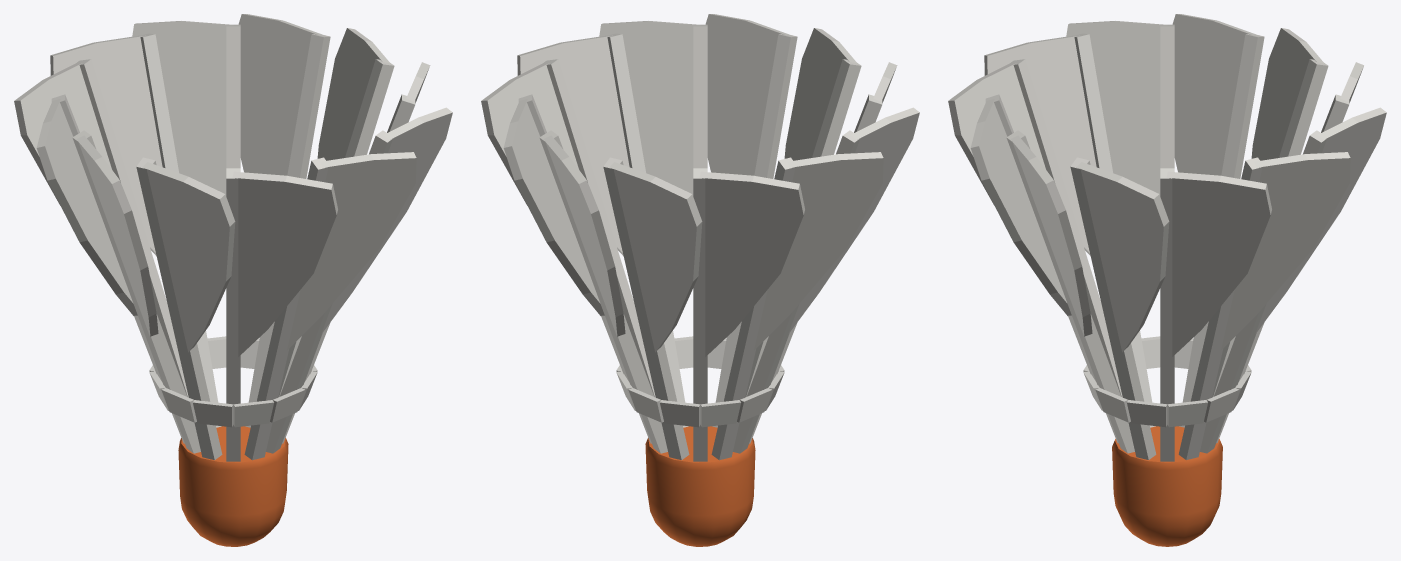
Rendered from kc-shuttlecocks.glb.
The picture shows the model from 3 angles, left to right: view 1: azimuth 30°, elevation 25°; view 2: azimuth 150°, elevation 25°; view 3: azimuth 270°, elevation 25°; orthographic projection.
Visible parts, largest first — view 1: Shuttlecocks; view 2: Shuttlecocks; view 3: Shuttlecocks.
Boxes of the visible parts, <box> form: Shuttlecocks: <box>14,14,452,546</box>; Shuttlecocks: <box>481,14,919,546</box>; Shuttlecocks: <box>948,14,1386,546</box>.
Size of the model in its own units: 4.89 by 5.47 by 4.89.
